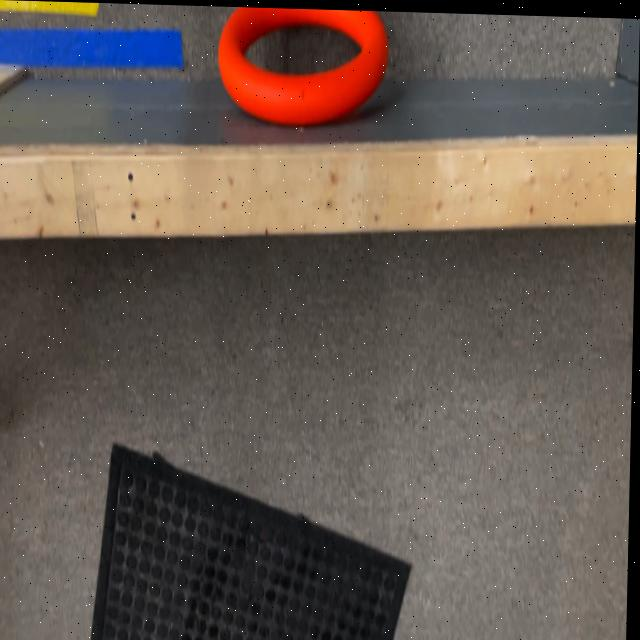note: (216, 5, 390, 121)
